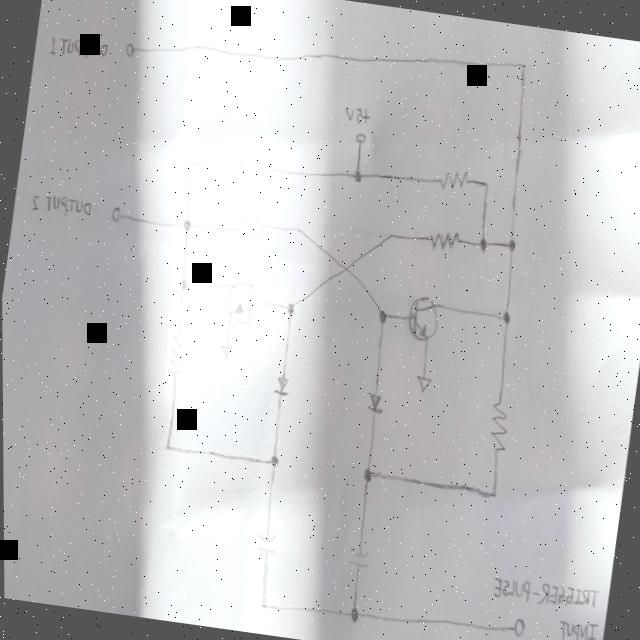capacitor: (251, 528, 281, 558), (344, 544, 373, 570)
diode: (270, 372, 293, 402), (365, 388, 386, 420)
ground: (411, 369, 435, 400), (218, 341, 233, 364)
junction: (342, 598, 367, 630), (261, 446, 284, 474), (358, 460, 379, 488), (251, 591, 274, 615), (282, 292, 300, 322), (175, 268, 193, 296), (159, 432, 176, 460), (486, 478, 503, 506), (338, 257, 357, 281), (475, 230, 492, 256), (178, 211, 195, 237), (505, 232, 522, 256), (498, 305, 515, 329), (349, 164, 367, 186), (290, 218, 306, 242), (182, 153, 200, 174), (375, 304, 391, 326), (516, 54, 530, 77), (384, 224, 397, 246), (481, 176, 494, 193)
resistor: (483, 398, 514, 458), (435, 163, 474, 196), (426, 223, 465, 254), (166, 329, 187, 380), (234, 155, 269, 183), (235, 212, 268, 240)
terminal: (503, 611, 529, 640), (107, 198, 127, 232), (122, 35, 144, 64), (351, 127, 371, 156)
text: (487, 572, 603, 616), (44, 28, 112, 68), (25, 186, 96, 224), (552, 614, 600, 640), (343, 98, 374, 128)
transistor: (404, 290, 443, 346), (222, 277, 262, 327)
